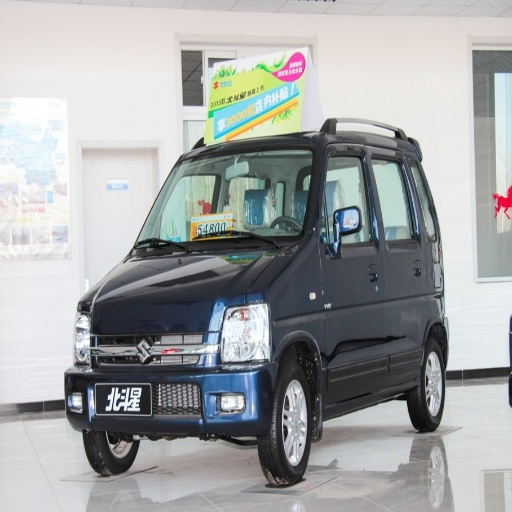front_bumper: (65, 302, 277, 434)
front_glass: (158, 152, 313, 249)
front_left_door: (322, 145, 390, 387)
